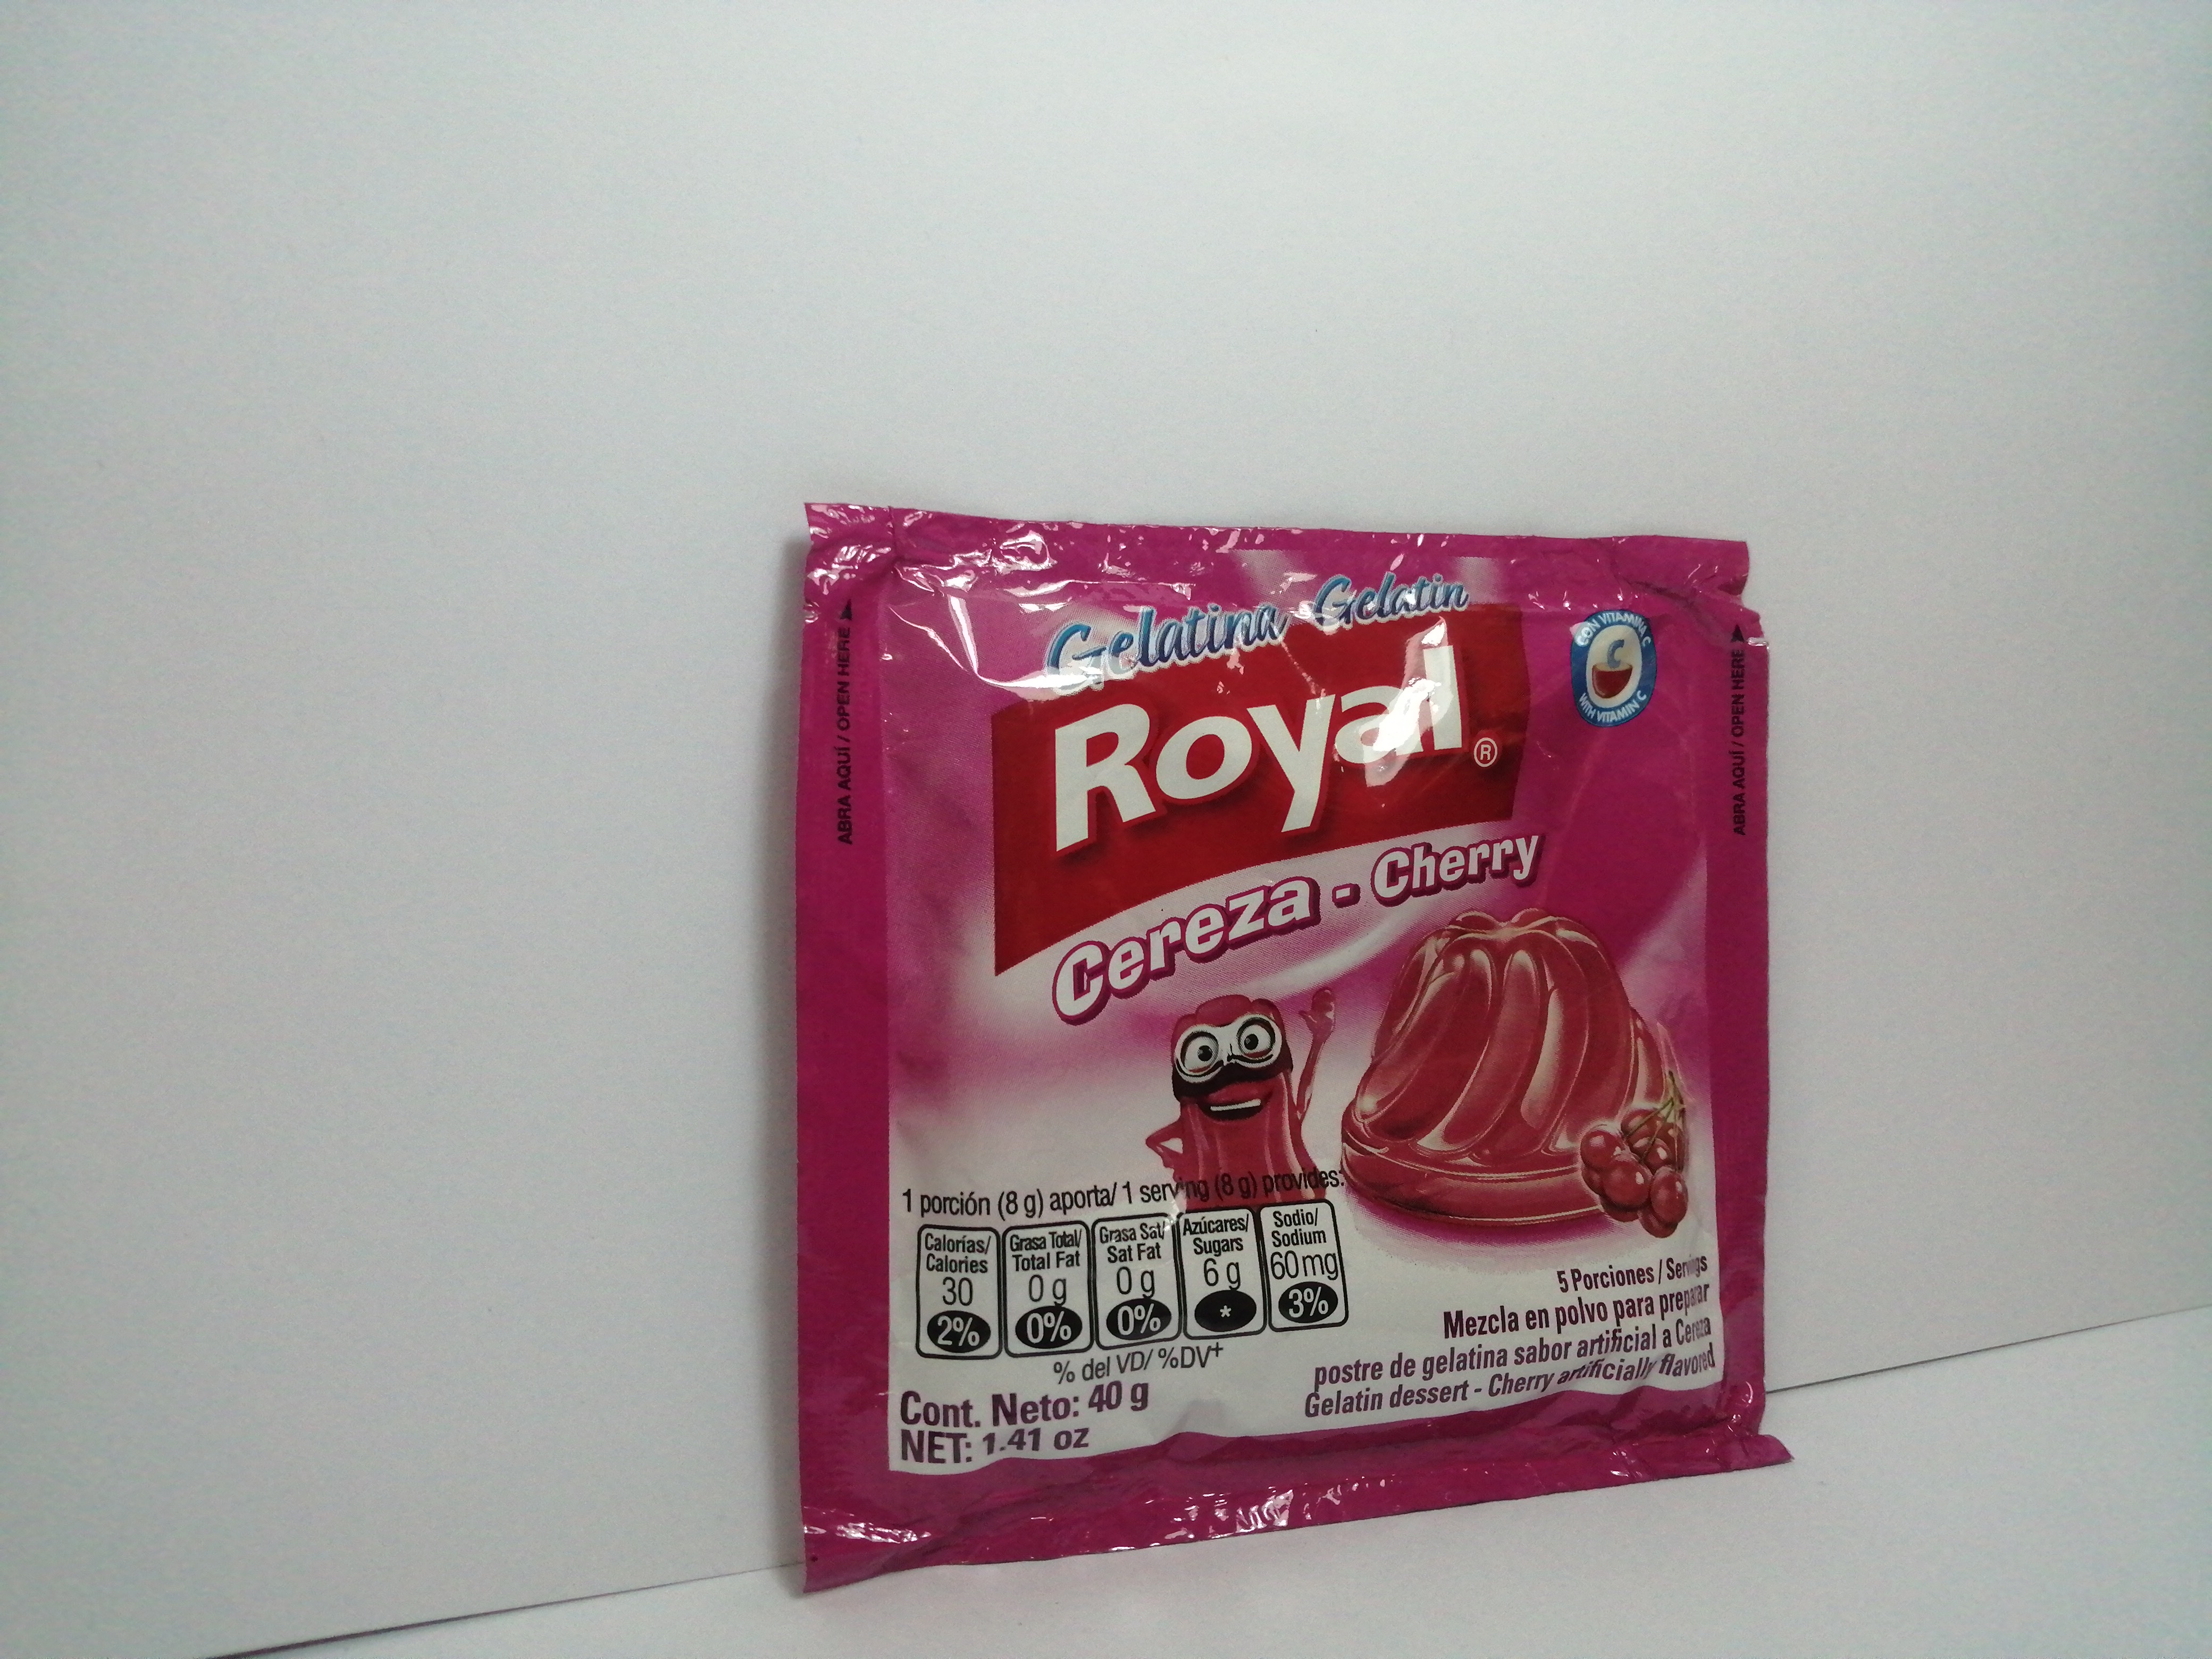gelatina: (792, 497, 1799, 1581)
